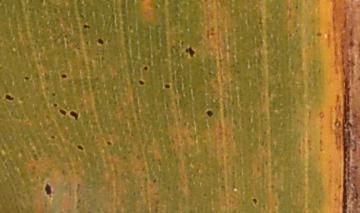tarspot: (184, 44, 196, 59), (68, 109, 79, 121), (43, 182, 52, 196), (4, 93, 15, 102), (57, 108, 67, 117), (204, 110, 215, 118), (59, 72, 69, 80), (96, 37, 104, 46), (314, 31, 323, 39), (205, 28, 210, 41), (137, 79, 145, 87), (141, 65, 149, 73), (163, 83, 171, 90), (82, 23, 90, 30), (251, 197, 258, 205), (75, 145, 84, 151), (50, 91, 57, 98), (23, 75, 30, 82), (153, 3, 160, 10), (105, 140, 112, 146), (49, 134, 56, 140), (51, 102, 58, 108), (151, 177, 157, 184), (201, 192, 208, 198), (63, 33, 69, 40), (293, 4, 299, 10), (127, 24, 133, 30), (131, 190, 136, 197), (100, 55, 105, 62), (75, 46, 81, 51), (84, 40, 89, 45)
